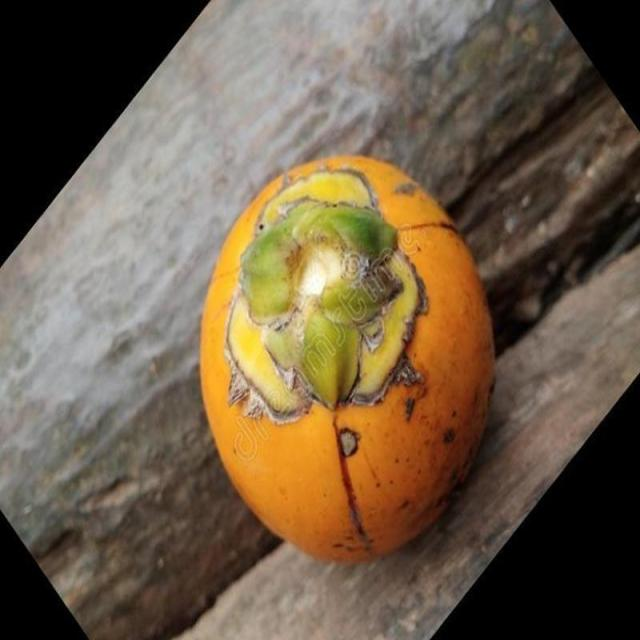good: (198, 156, 496, 566)
